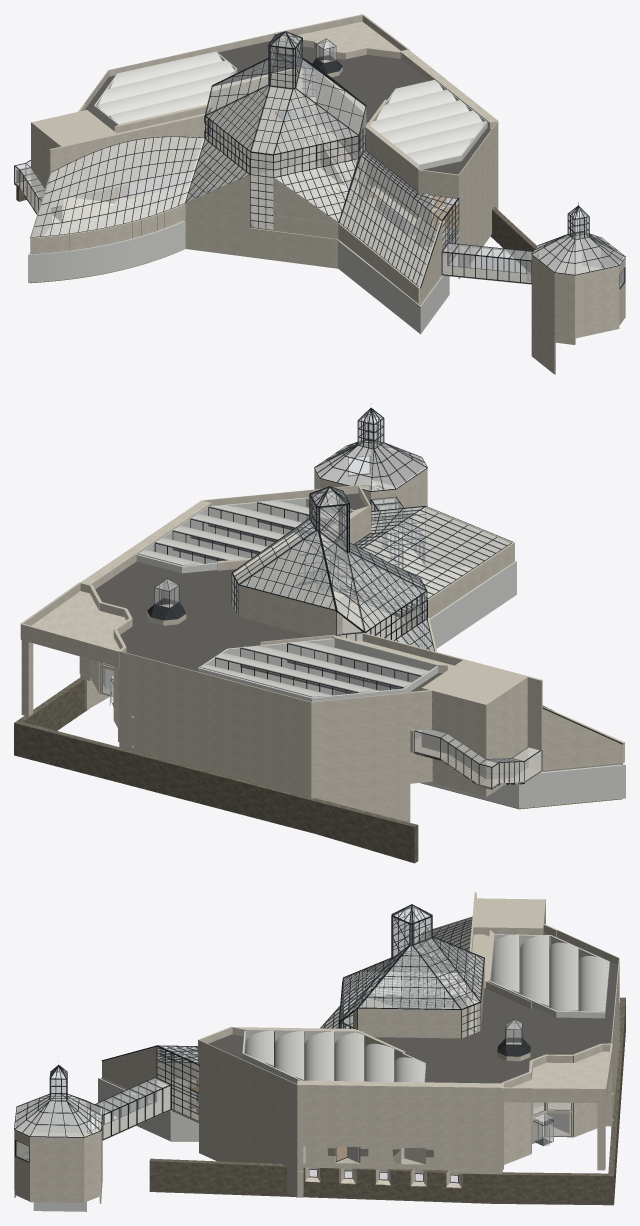
Rendered from context3.glb.
3 renders of one model, top to bottom at view 1: azimuth 30°, elevation 25°; view 2: azimuth 150°, elevation 25°; view 3: azimuth 270°, elevation 25°, orthographic. The views are drawn at different scales.
Parts seen in each view (by area): view 1: ENT-01-L00_GLASS, R04_RECESS_JAMB_FOOT, P05_FRONT_0, R24_SHELL_E_00, P10_MAIN_ROOF_FACE_0_GRID_0001, P05_FLOOR_L00_GH, R37_GH_EAST_PORTAL_METAL_HEAD, R99_W_GROUND_GALLERY_ENTRY_WALL, P05_MAIN_ROOF_DECK, R17_PORTAL_HEAD, R42_SHADE_00_00, R111_W_GALLERY_APPROACH_SOFFIT (+12 smaller); view 2: P05_FRONT_0, ENT-01-L00_GLASS, R04_RECESS_JAMB_FOOT, R99_W_GROUND_GALLERY_ENTRY_WALL, R35_WALL_51946353_00_0, P05_MAIN_ROOF_DECK, P10_MAIN_ROOF_FACE_0_GRID_0001, R24_SHELL_E_00, R37_GH_EAST_PORTAL_METAL_HEAD, R42_SHADE_00_00, P07_CANOPY_SLAB_ENVELOPE, R111_W_GALLERY_APPROACH_SOFFIT (+5 smaller); view 3: R04_RECESS_JAMB_FOOT, P05_FRONT_0, ENT-01-L00_GLASS, R35_WALL_51946353_00_0, R24_SHELL_E_00, P05_MAIN_ROOF_DECK, R99_W_GROUND_GALLERY_ENTRY_WALL, P10_MAIN_ROOF_FACE_0_GRID_0001, R37_GH_EAST_PORTAL_METAL_HEAD, P07_CANOPY_SLAB_ENVELOPE, R42_SHADE_00_00, R111_W_GALLERY_APPROACH_SOFFIT (+5 smaller).
Part boxes in pixels (x1,y1,x2,y2): ENT-01-L00_GLASS: [14, 32, 624, 287]; R04_RECESS_JAMB_FOOT: [31, 50, 625, 374]; P05_FRONT_0: [30, 32, 625, 321]; R24_SHELL_E_00: [96, 51, 486, 243]; P10_MAIN_ROOF_FACE_0_GRID_0001: [30, 31, 625, 283]; P05_FLOOR_L00_GH: [30, 112, 531, 304]; R37_GH_EAST_PORTAL_METAL_HEAD: [31, 33, 601, 288]; R99_W_GROUND_GALLERY_ENTRY_WALL: [28, 51, 623, 334]; P05_MAIN_ROOF_DECK: [85, 41, 491, 181]; R17_PORTAL_HEAD: [36, 68, 538, 282]; R42_SHADE_00_00: [187, 55, 355, 200]; R111_W_GALLERY_APPROACH_SOFFIT: [31, 96, 418, 227]; P05_FRONT_0: [21, 485, 624, 822]; ENT-01-L00_GLASS: [102, 410, 541, 787]; R04_RECESS_JAMB_FOOT: [80, 468, 542, 795]; R99_W_GROUND_GALLERY_ENTRY_WALL: [103, 444, 625, 808]; R35_WALL_51946353_00_0: [14, 677, 418, 863]; P05_MAIN_ROOF_DECK: [95, 493, 442, 711]; P10_MAIN_ROOF_FACE_0_GRID_0001: [154, 408, 622, 744]; R24_SHELL_E_00: [138, 501, 619, 772]; R37_GH_EAST_PORTAL_METAL_HEAD: [155, 408, 512, 693]; R42_SHADE_00_00: [241, 525, 430, 648]; P07_CANOPY_SLAB_ENVELOPE: [20, 582, 125, 667]; R111_W_GALLERY_APPROACH_SOFFIT: [315, 568, 527, 743]; R04_RECESS_JAMB_FOOT: [14, 894, 556, 1203]; P05_FRONT_0: [14, 916, 619, 1201]; ENT-01-L00_GLASS: [15, 905, 570, 1182]; R35_WALL_51946353_00_0: [149, 997, 625, 1205]; R24_SHELL_E_00: [245, 934, 607, 1082]; P05_MAIN_ROOF_DECK: [199, 932, 619, 1095]; R99_W_GROUND_GALLERY_ENTRY_WALL: [16, 934, 609, 1211]; P10_MAIN_ROOF_FACE_0_GRID_0001: [14, 904, 484, 1158]; R37_GH_EAST_PORTAL_METAL_HEAD: [37, 906, 578, 1115]; P07_CANOPY_SLAB_ENVELOPE: [502, 1044, 612, 1102]; R42_SHADE_00_00: [342, 945, 483, 1015]; R111_W_GALLERY_APPROACH_SOFFIT: [468, 899, 545, 1031].
Size of the model in its own units: 81.08 by 43.8 by 94.58.
66 materials, 17 textured.
